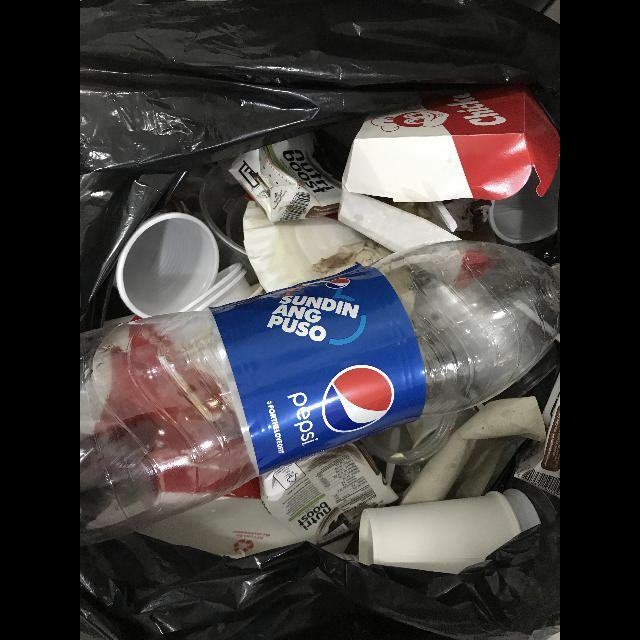cardboard: (338, 93, 560, 253), (139, 478, 300, 559)
paper: (400, 396, 547, 505), (243, 201, 364, 293), (311, 240, 393, 277)
plastic_bottle: (80, 240, 560, 535)
